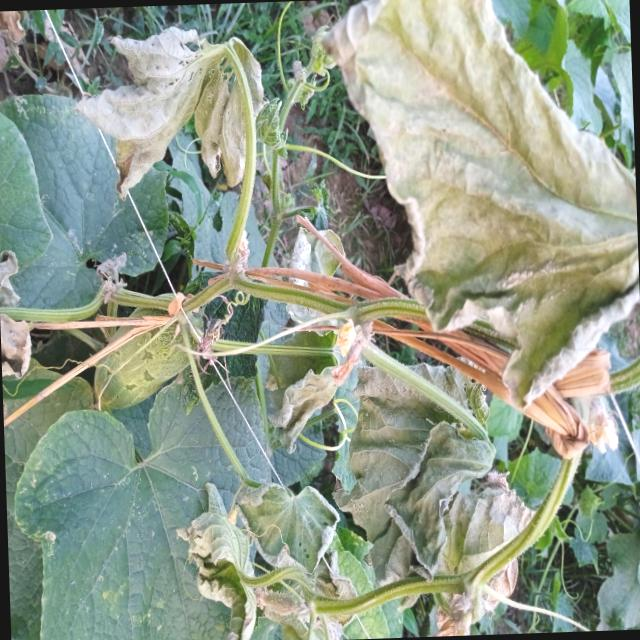cucumber_bacterial: (333, 2, 628, 280), (94, 20, 268, 194), (186, 480, 340, 640), (259, 316, 394, 456)
